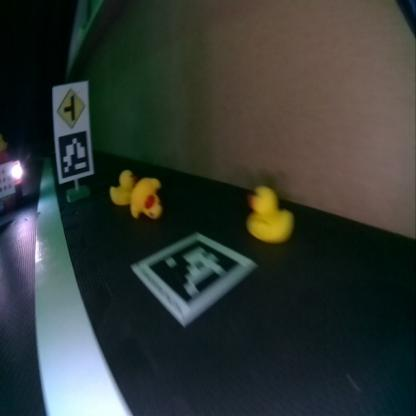Duckie: (246, 187, 292, 241), (129, 176, 162, 218), (110, 169, 135, 204)
Duckiebot: (0, 151, 24, 211)
Intersection sign: (54, 85, 86, 126)
QR code: (131, 232, 256, 324), (56, 130, 92, 179)
